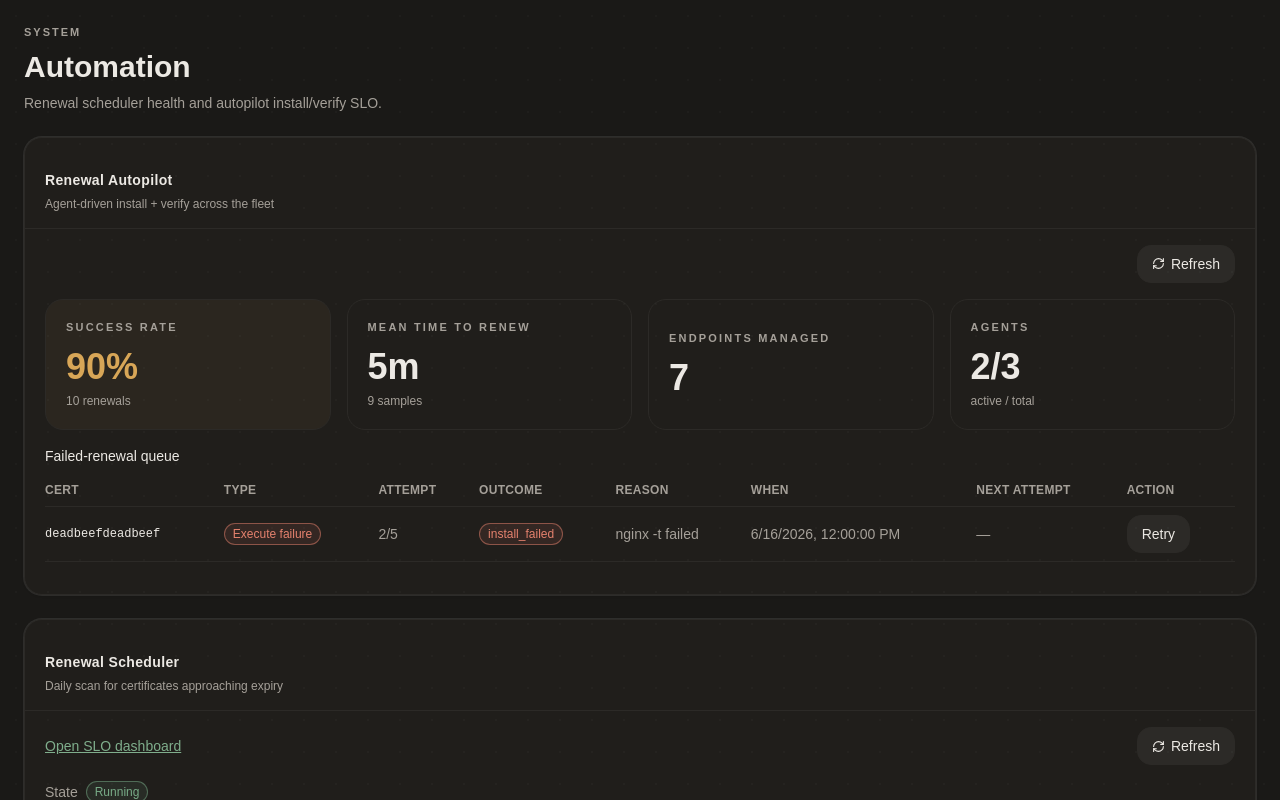
Test: Automation page — failed-renewal queue › shows attempt and reason and Retry updates the row
Expected: the text "2/5" is shown, [378,507,479,562]
Expected: the text "nginx -t failed" is shown, [616,507,751,562]
Step 1. Click the button with aria-label "Retry renewal deadbeefdead" → (1158, 534), box [1127,515,1190,553]
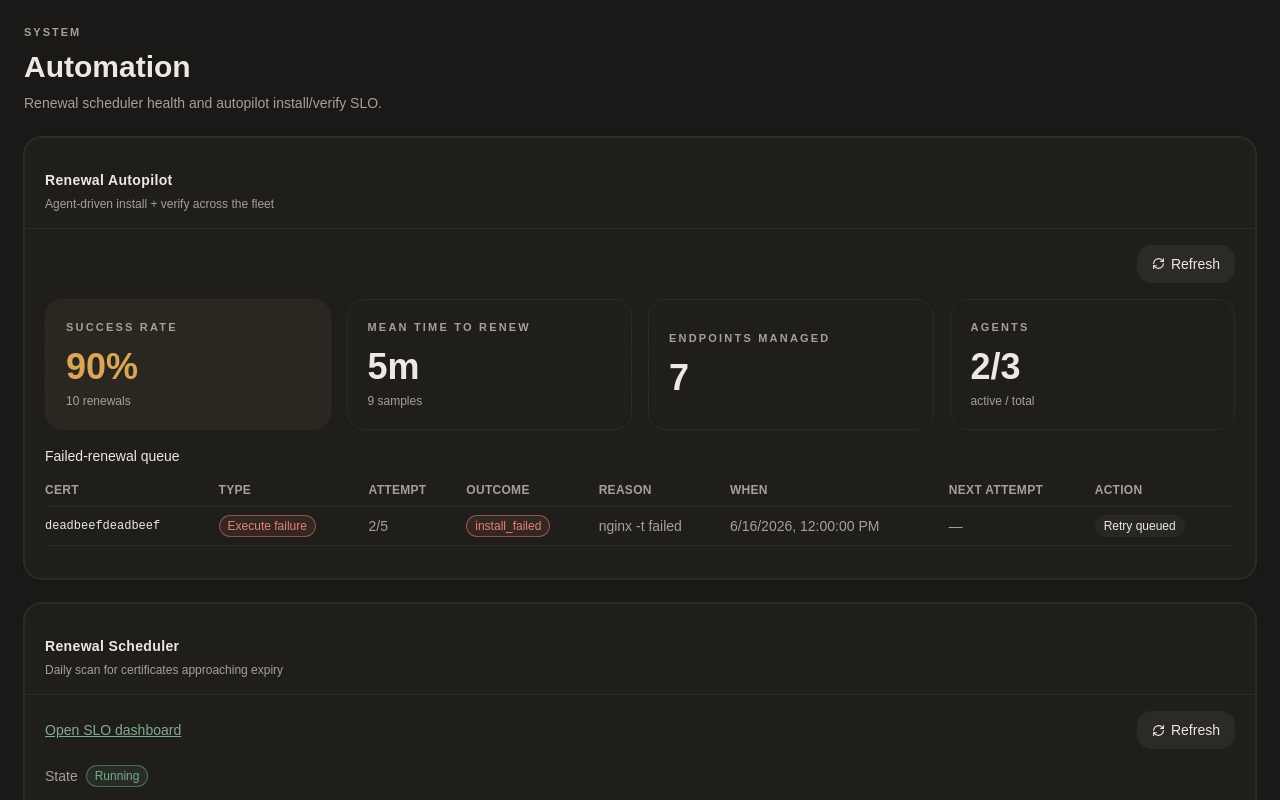
Expected: the text "Retry queued" is shown, [1095,515,1185,537]
